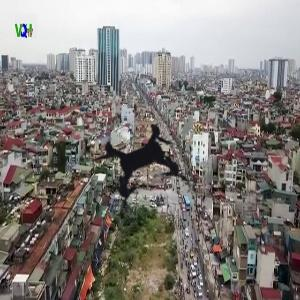drone: (63, 84, 227, 248)
